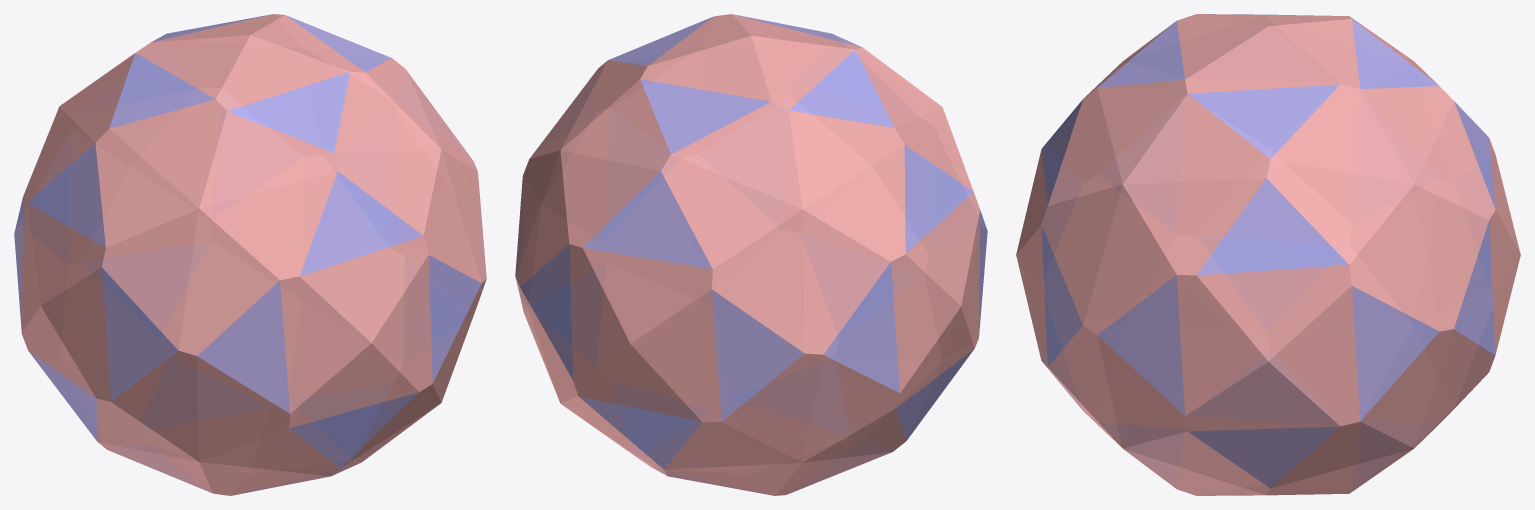
Rendered from BiscribedPropelloTetrakisHexahedron.obj.
3 renders of one model, left to right at view 1: azimuth 30°, elevation 25°; view 2: azimuth 150°, elevation 25°; view 3: azimuth 270°, elevation 25°, orthographic. The views are drawn at different scales.
Size of the model in its own units: 2 by 2 by 2.
